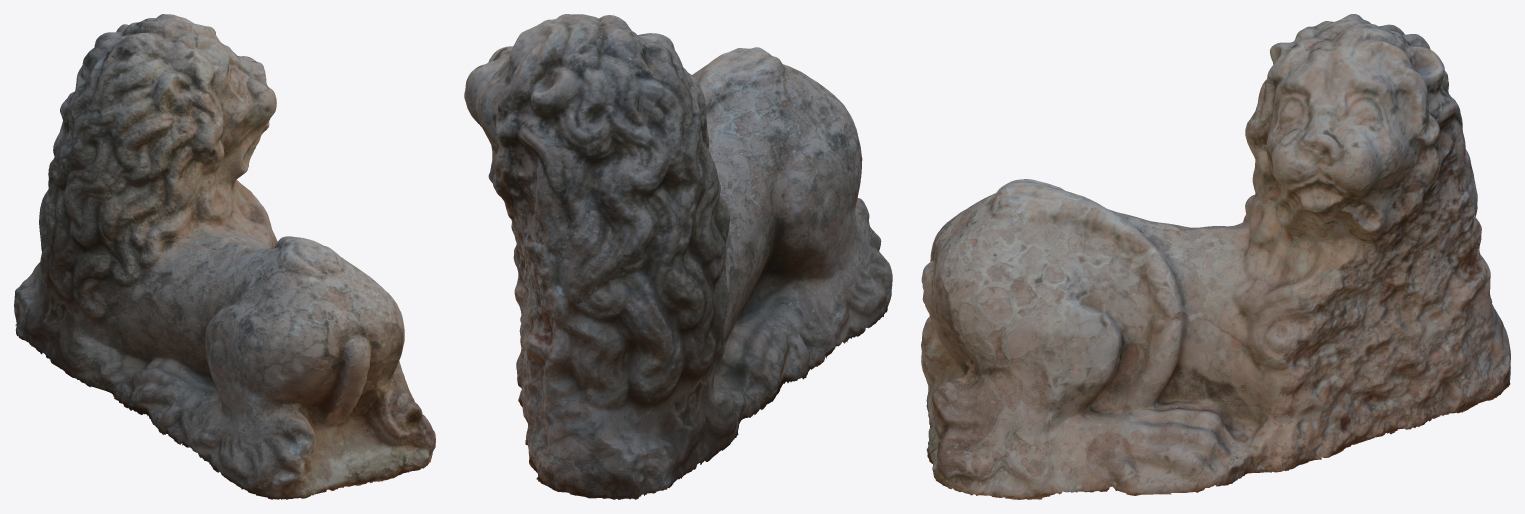
Rendered from piece-003.glb.
3 renders of one model, left to right at view 1: azimuth 30°, elevation 25°; view 2: azimuth 150°, elevation 25°; view 3: azimuth 270°, elevation 25°, orthographic. The views are drawn at different scales.
Parts seen in each view (by area): view 1: Object_3, Object_2, Object_4; view 2: Object_2, Object_3, Object_4; view 3: Object_3, Object_2, Object_4.
Part boxes in pixels (<box>): Object_3: <box>14,146,435,499</box>; Object_2: <box>15,14,342,490</box>; Object_4: <box>15,215,435,498</box>; Object_2: <box>464,14,885,499</box>; Object_3: <box>501,48,892,497</box>; Object_4: <box>514,148,892,499</box>; Object_3: <box>921,162,1509,499</box>; Object_2: <box>960,14,1510,471</box>; Object_4: <box>922,249,1509,499</box>.
Bounding box in the file's own units: 0.1926 × 0.28 × 0.3682.
Materials: 1 (1 with a texture image).
